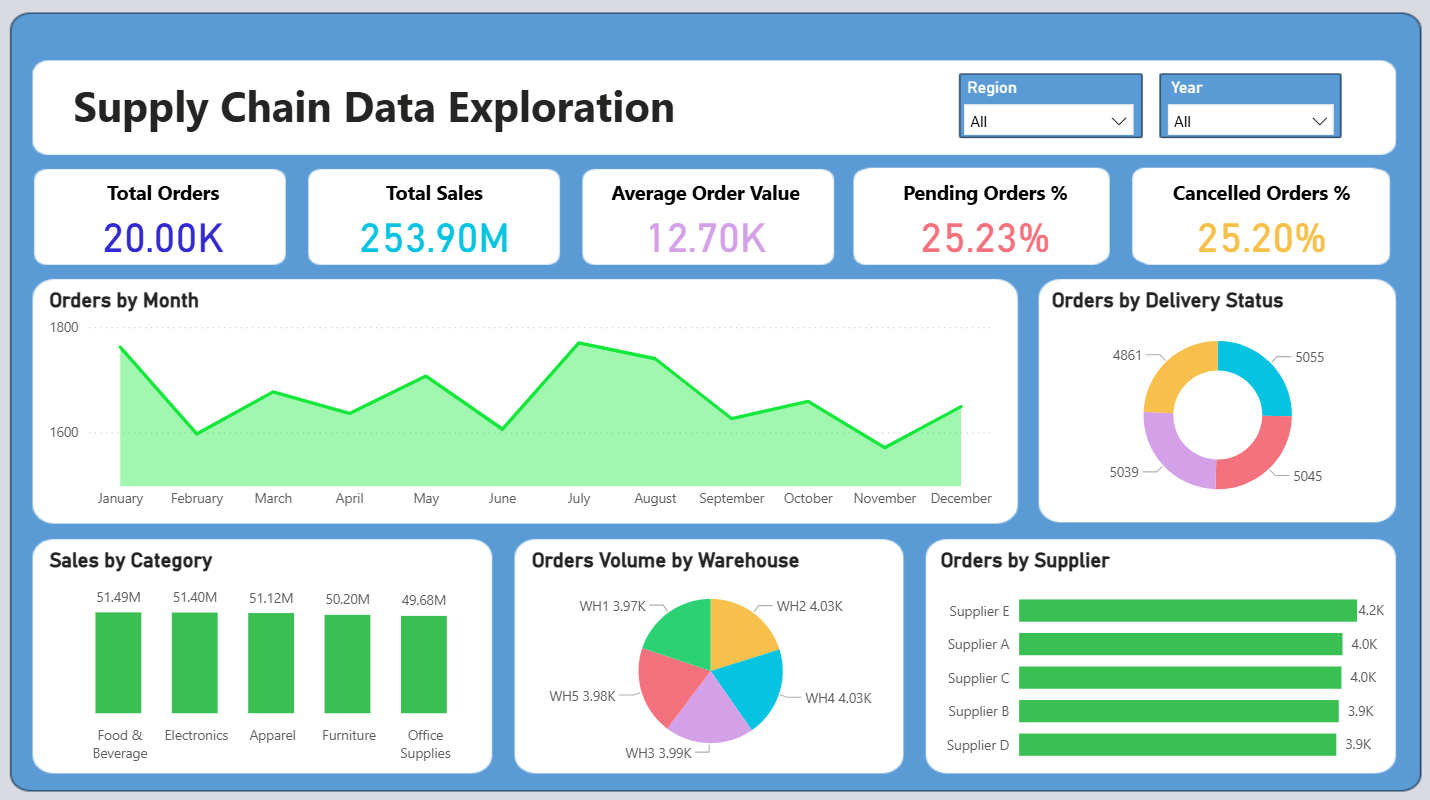

The page's visual inventory and layout, read from the dashboard file:
{"tool":"powerbi","page":{"name":"Page 1","canvas":[1280,720],"ordinal":0},"visuals":[{"type":"cardVisual","fields":{"Data":["All Measure.Total Orders"]},"box":[43.4,146,212.3,89.3],"z":0},{"type":"cardVisual","fields":{"Data":["All Measure.Pending Orders %"]},"box":[766.1,146,218.4,92.9],"z":1000},{"type":"cardVisual","fields":{"Data":["All Measure.Cancelled Orders %"]},"box":[1021.9,146,207.5,89.3],"z":2000},{"type":"cardVisual","fields":{"Data":["All Measure.Total Sales"]},"box":[292,146,203.9,102.5],"z":3000},{"type":"areaChart","fields":{"Category":["Orders.Order Date.Variation.Date Hierarchy.Month"],"Y":["All Measure.Total Orders"]},"box":[43.4,259.4,851.7,205.1],"z":4000},{"type":"donutChart","fields":{"Category":["Orders.Delivery Status"],"Y":["All Measure.Total Orders"]},"box":[935,259.4,305.2,205.1],"z":5000},{"type":"slicer","fields":{"Values":["Orders.Region"]},"box":[851.3,66.6,170.5,58.6],"z":6000},{"type":"slicer","fields":{"Values":["Orders.Order Date.Variation.Date Hierarchy.Year"]},"box":[1032.5,66.6,167.9,58.6],"z":7000},{"type":"cardVisual","fields":{"Data":["All Measure.Average Order Value"]},"box":[533.2,146,212.3,89.3],"z":8000},{"type":"clusteredColumnChart","fields":{"Y":["All Measure.Total Sales"],"Category":["Orders.Product Category"]},"box":[43.4,500.7,393.3,182.2],"z":9000},{"type":"clusteredBarChart","fields":{"Category":["Orders.Supplier"],"Y":["All Measure.Total Orders"]},"box":[836.1,485,393.3,212.3],"z":10000},{"type":"pieChart","fields":{"Category":["Orders.Warehouse"],"Y":["CountNonNull(Orders.Quantity Ordered)"]},"box":[468.1,485,322.1,197.9],"z":11000},{"type":"textbox","box":[63.9,66.6,687.4,67.9],"z":12000}]}

Visuals, with their boxes in screenshot pixels (x1, y1, x2, y2), scaled from the page's 1280x720 canvas onto the 1430x800 screenshot:
cardVisual - All Measure.Total Orders: (left=48, top=162, right=286, bottom=261)
cardVisual - All Measure.Pending Orders %: (left=856, top=162, right=1100, bottom=265)
cardVisual - All Measure.Cancelled Orders %: (left=1142, top=162, right=1373, bottom=261)
cardVisual - All Measure.Total Sales: (left=326, top=162, right=554, bottom=276)
areaChart - Orders.Order Date.Variation.Date Hierarchy.Month x All Measure.Total Orders: (left=48, top=288, right=1000, bottom=516)
donutChart - Orders.Delivery Status x All Measure.Total Orders: (left=1045, top=288, right=1386, bottom=516)
slicer - Orders.Region: (left=951, top=74, right=1142, bottom=139)
slicer - Orders.Order Date.Variation.Date Hierarchy.Year: (left=1153, top=74, right=1341, bottom=139)
cardVisual - All Measure.Average Order Value: (left=596, top=162, right=833, bottom=261)
clusteredColumnChart - All Measure.Total Sales x Orders.Product Category: (left=48, top=556, right=488, bottom=759)
clusteredBarChart - Orders.Supplier x All Measure.Total Orders: (left=934, top=539, right=1373, bottom=775)
pieChart - Orders.Warehouse x CountNonNull(Orders.Quantity Ordered): (left=523, top=539, right=883, bottom=759)
textbox: (left=71, top=74, right=839, bottom=149)
